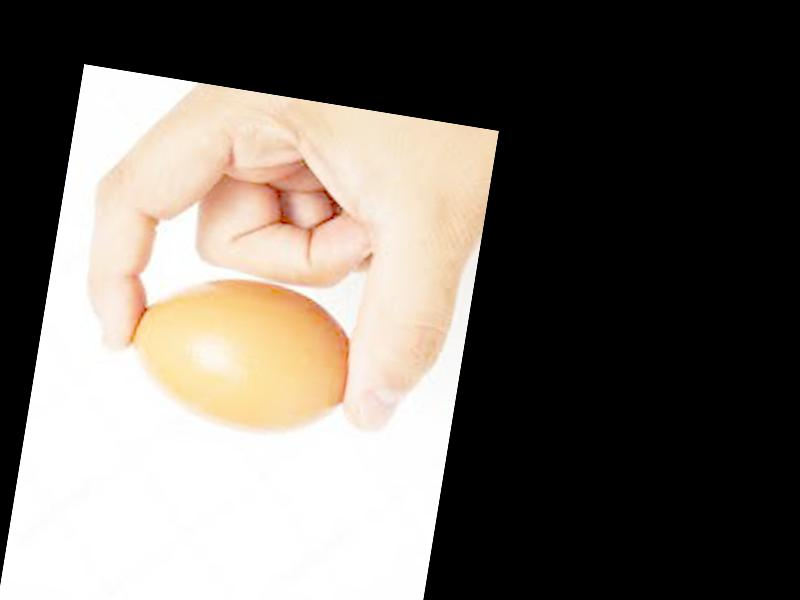Eggs: (116, 261, 360, 447)
